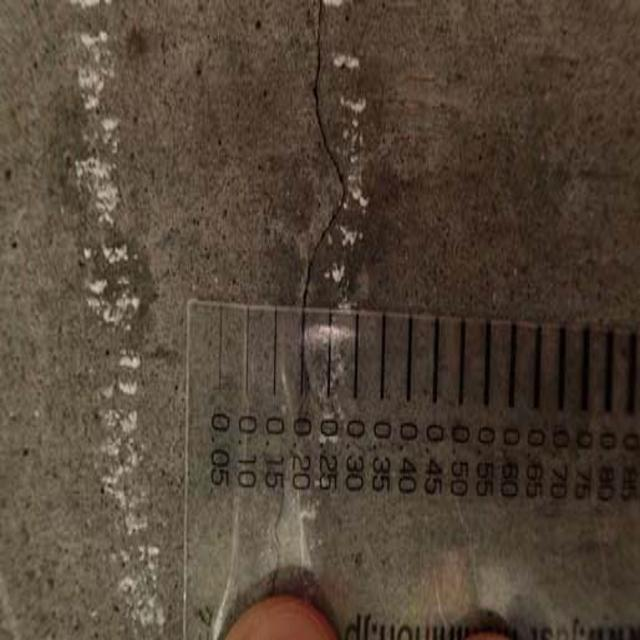crack: (289, 6, 357, 304)
